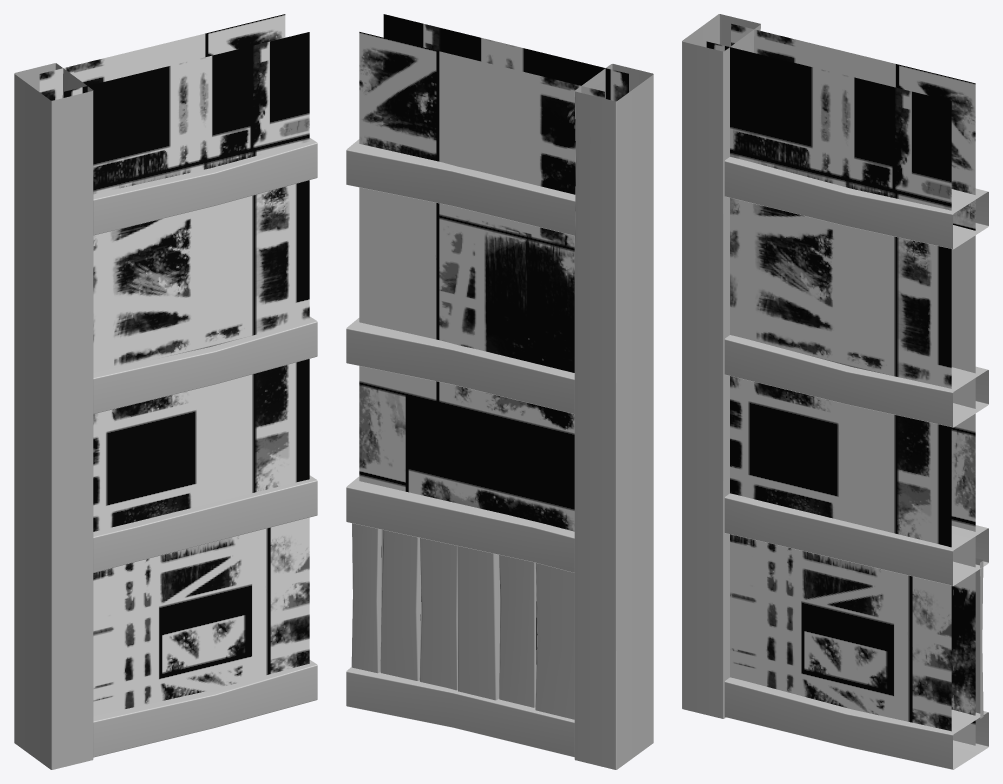
The model's file is SM_wall01_Wall_011.fbx.
The picture shows the model from 3 angles, left to right: view 1: azimuth 30°, elevation 25°; view 2: azimuth 150°, elevation 25°; view 3: azimuth 330°, elevation 25°; orthographic projection.
Visible parts, largest first — view 1: SM_wall01_Wall_011_LOD0; view 2: SM_wall01_Wall_011_LOD0; view 3: SM_wall01_Wall_011_LOD0.
Part boxes in pixels (x1,y1,x2,y2): SM_wall01_Wall_011_LOD0: [14, 14, 317, 769]; SM_wall01_Wall_011_LOD0: [346, 14, 653, 769]; SM_wall01_Wall_011_LOD0: [682, 14, 988, 769].
Bounding box in the file's own units: 127 × 31.98 × 303.
